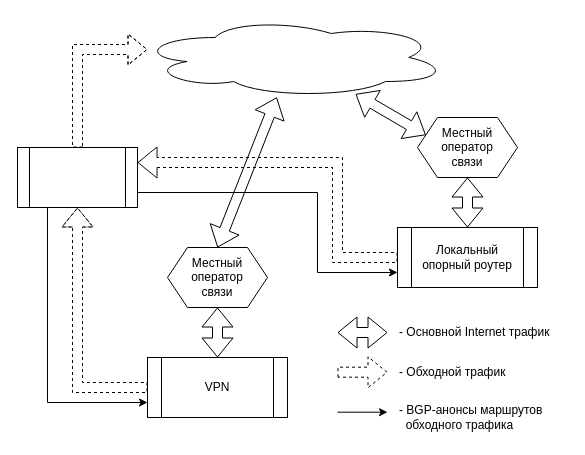
This 585x455 diagram has some shape labels left out. The shapes that lost their labels are listed below. From the top down, each one's box as (x1, y1, x2, y2) in pixels, then its label:
(136, 16, 448, 98): Internet
(16, 146, 138, 208): Зарубежный сервер
